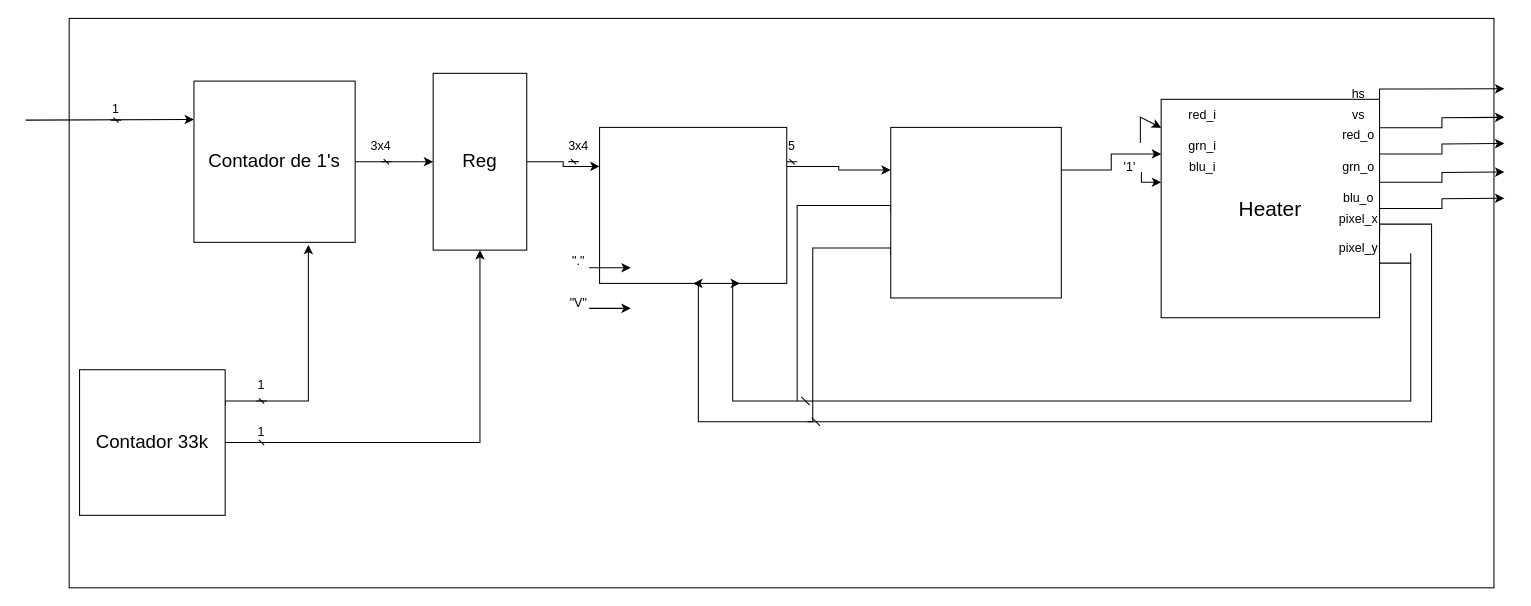
This 1531x606 diagram has some shape labels left out. The centre of each missing label's shape, as x and y in pixels:
"Microcontrolador" belongs at point 693,204.
"N-Mos" belongs at point 975,212.
